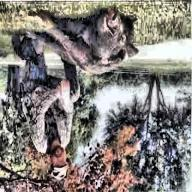boar: (48, 2, 150, 82)
